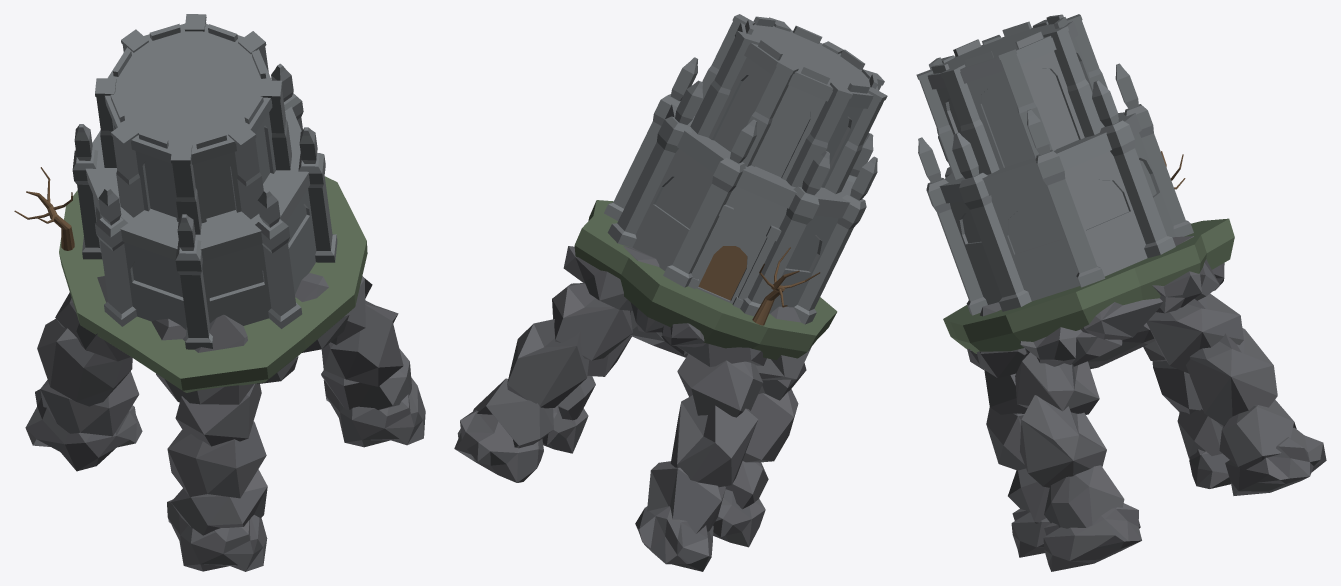
Rendered from mausoleum.glb.
The picture shows the model from 3 angles, left to right: view 1: azimuth 30°, elevation 25°; view 2: azimuth 150°, elevation 25°; view 3: azimuth 270°, elevation 25°; orthographic projection. The views are drawn at different scales.
Parts seen in each view (by area): view 1: Mausoleum Weeping.001; view 2: Mausoleum Weeping.001; view 3: Mausoleum Weeping.001.
Boxes of the visible parts, left/top/right/bottom form: Mausoleum Weeping.001: left=14, top=14, right=425, bottom=571; Mausoleum Weeping.001: left=454, top=14, right=887, bottom=571; Mausoleum Weeping.001: left=916, top=14, right=1326, bottom=571.
Bounding box in the file's own units: 0.45 × 0.6654 × 0.4794.
